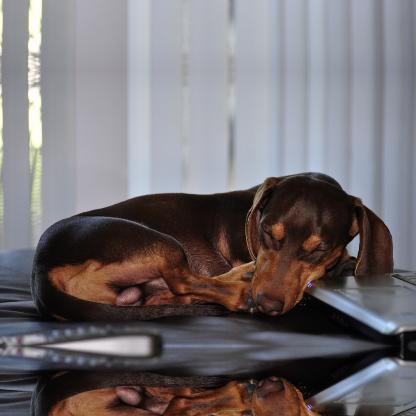Dog: (30, 170, 394, 324), (30, 366, 395, 415)
